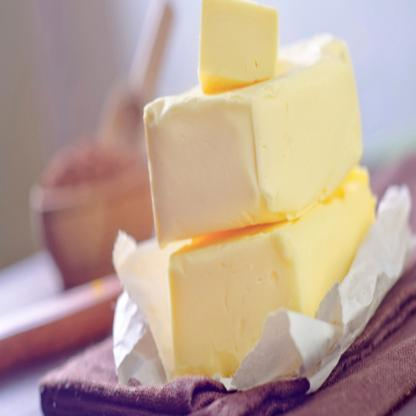butter: (144, 23, 360, 232), (169, 176, 373, 374), (200, 1, 280, 95)
